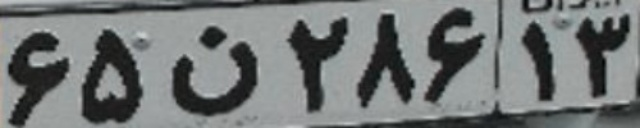1: (518, 22, 559, 100)
2: (287, 17, 350, 112)
3: (574, 13, 632, 99)
5: (79, 28, 142, 121)
6: (3, 28, 71, 125), (423, 7, 485, 104)
8: (358, 13, 416, 104)
non: (163, 22, 263, 115)
